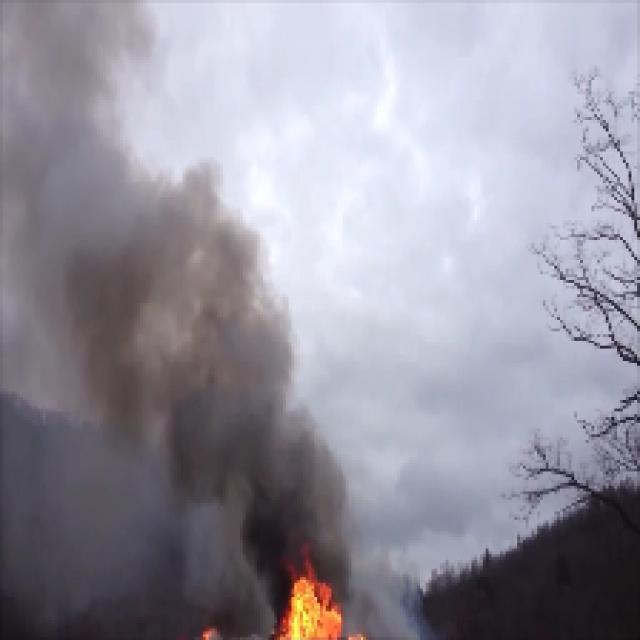smoke: (2, 2, 177, 566), (181, 162, 282, 528), (288, 409, 356, 562)
